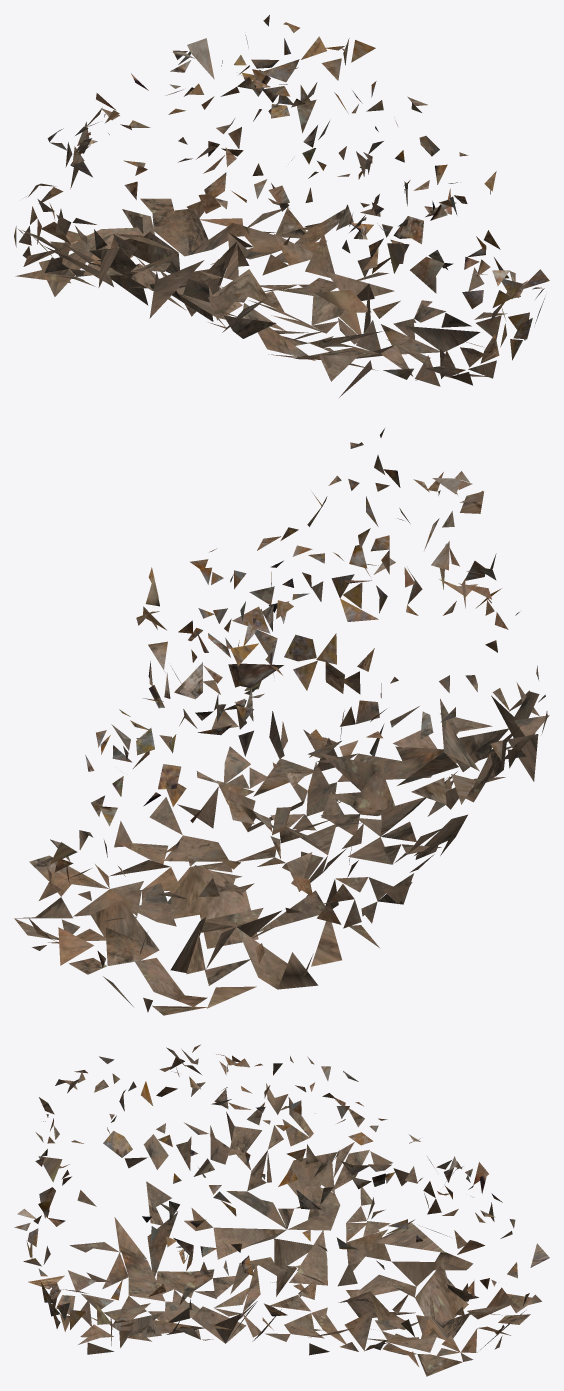
The model's file is cavern_boulder.glb.
3 renders of one model, top to bottom at view 1: azimuth 30°, elevation 25°; view 2: azimuth 150°, elevation 25°; view 3: azimuth 270°, elevation 25°, orthographic. The views are drawn at different scales.
Visible parts, largest first — view 1: boulder_01; view 2: boulder_01; view 3: boulder_01.
Boxes of the visible parts, left/top/right/bottom form: boulder_01: left=14, top=15, right=549, bottom=397; boulder_01: left=14, top=428, right=549, bottom=1015; boulder_01: left=14, top=1044, right=549, bottom=1376.
Bounding box in the file's own units: 1.24 × 1.07 × 1.8.
1 material, 1 textured.
